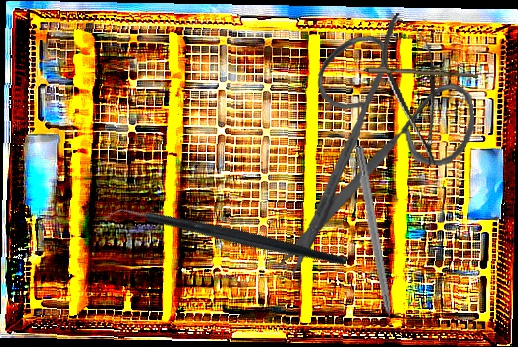Chopper: (102, 134, 349, 344)
Hook Surgical: (352, 145, 398, 339)
Iris Scissors: (258, 27, 487, 281)
Micro Scissor: (373, 7, 458, 172)
Surgical Spoon: (324, 65, 479, 78)
